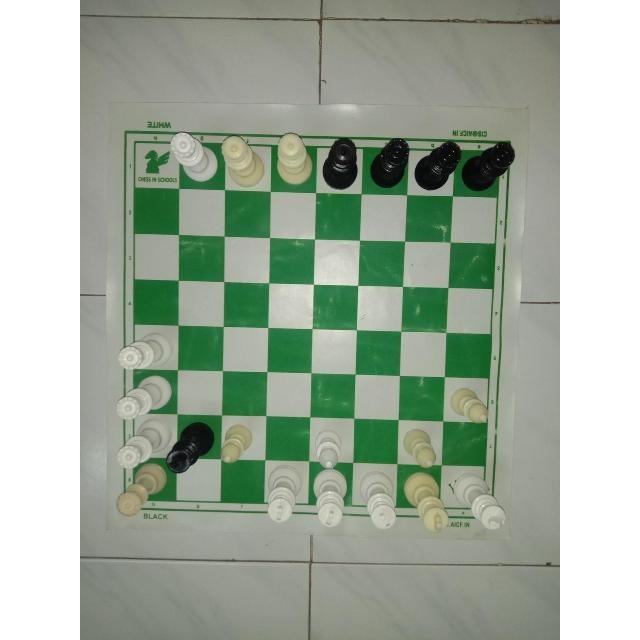black-king: (166, 416, 218, 477)
black-queen: (459, 135, 518, 201), (414, 138, 463, 196), (320, 134, 362, 192), (370, 138, 412, 194)
white-bishop: (446, 381, 493, 429), (398, 424, 442, 471), (310, 425, 348, 473), (218, 423, 257, 464)
white-king: (449, 467, 508, 535), (400, 469, 451, 537), (354, 469, 400, 531), (311, 467, 353, 529), (267, 461, 306, 523)
white-queen: (114, 460, 170, 519), (113, 420, 173, 470), (113, 373, 174, 420), (219, 136, 268, 192), (271, 131, 318, 189), (169, 132, 220, 184), (115, 329, 173, 374)
